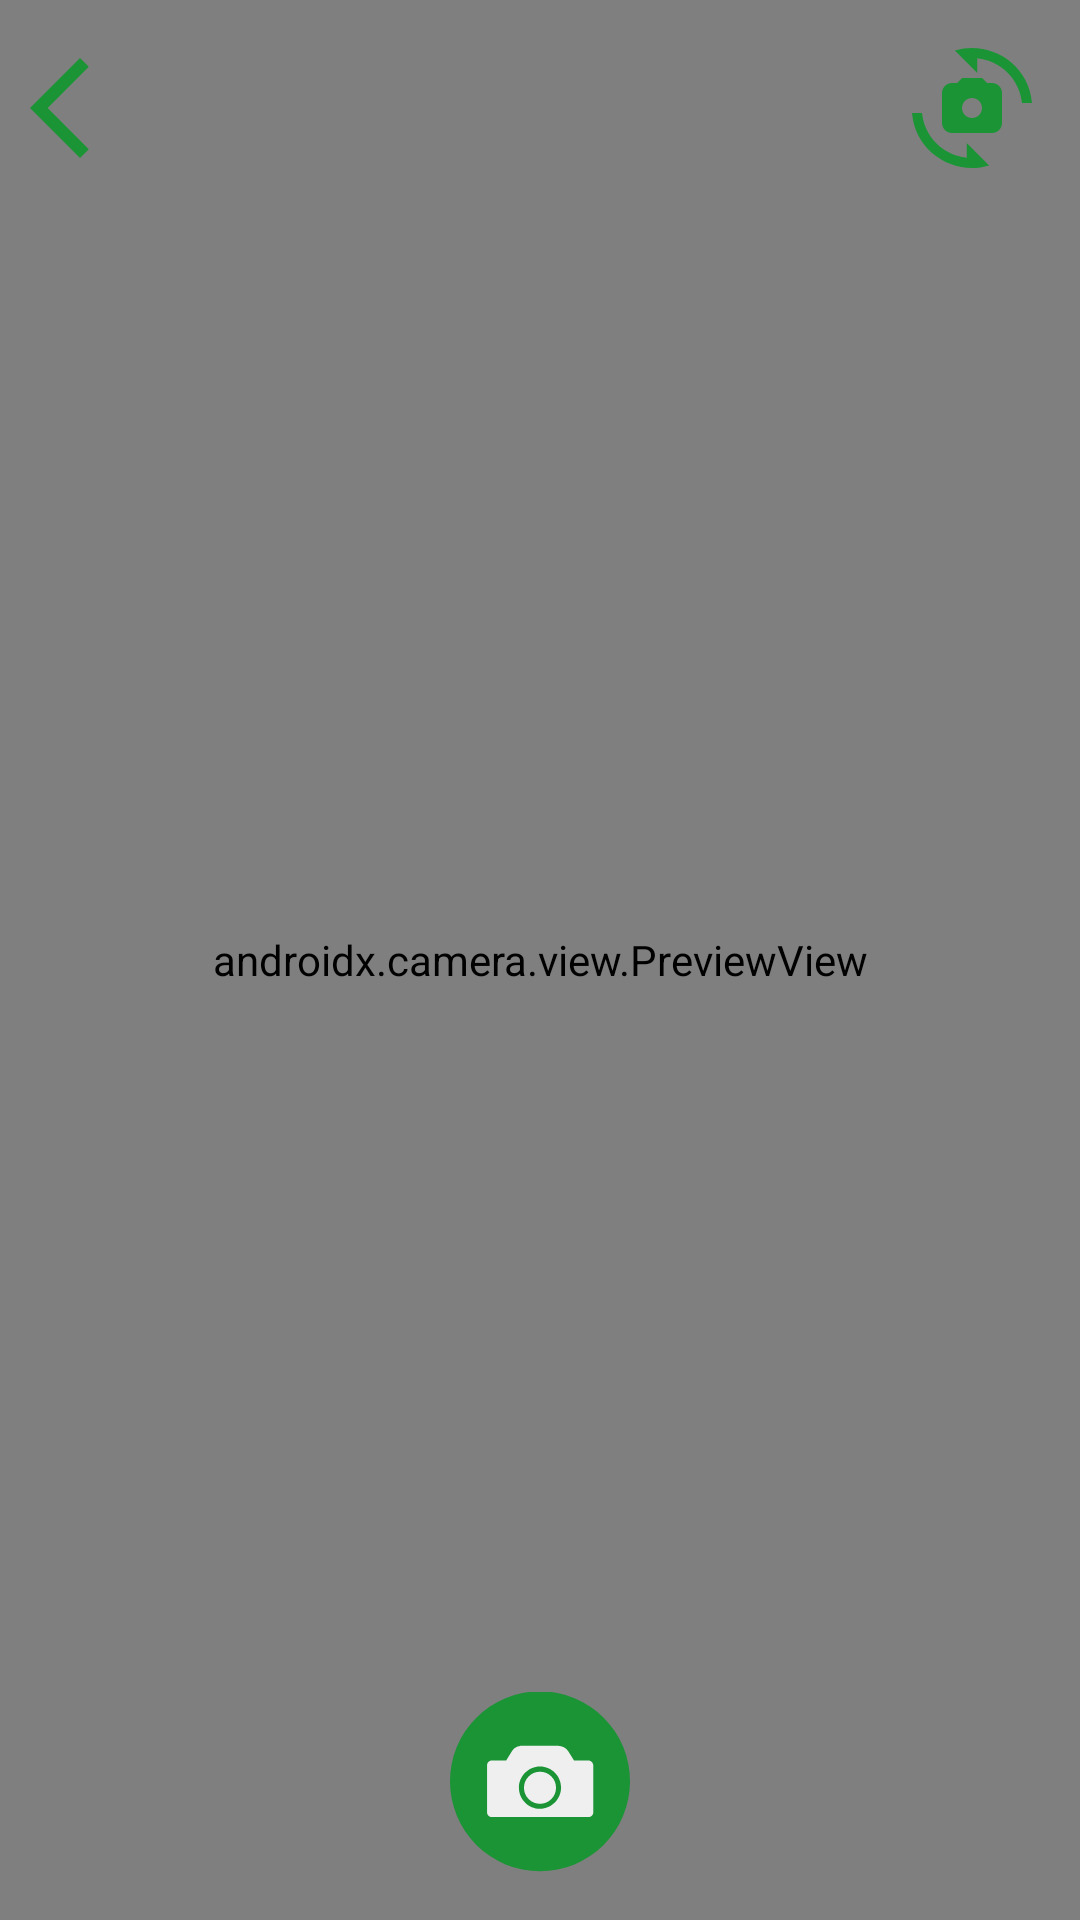

Screen size 1080×1920. Icon name, then its box in pixels as (x1, y1, x2, y2):
arrow back: (30, 58, 89, 158)
capture: (450, 1692, 630, 1871)
switch camera: (912, 48, 1032, 168)
